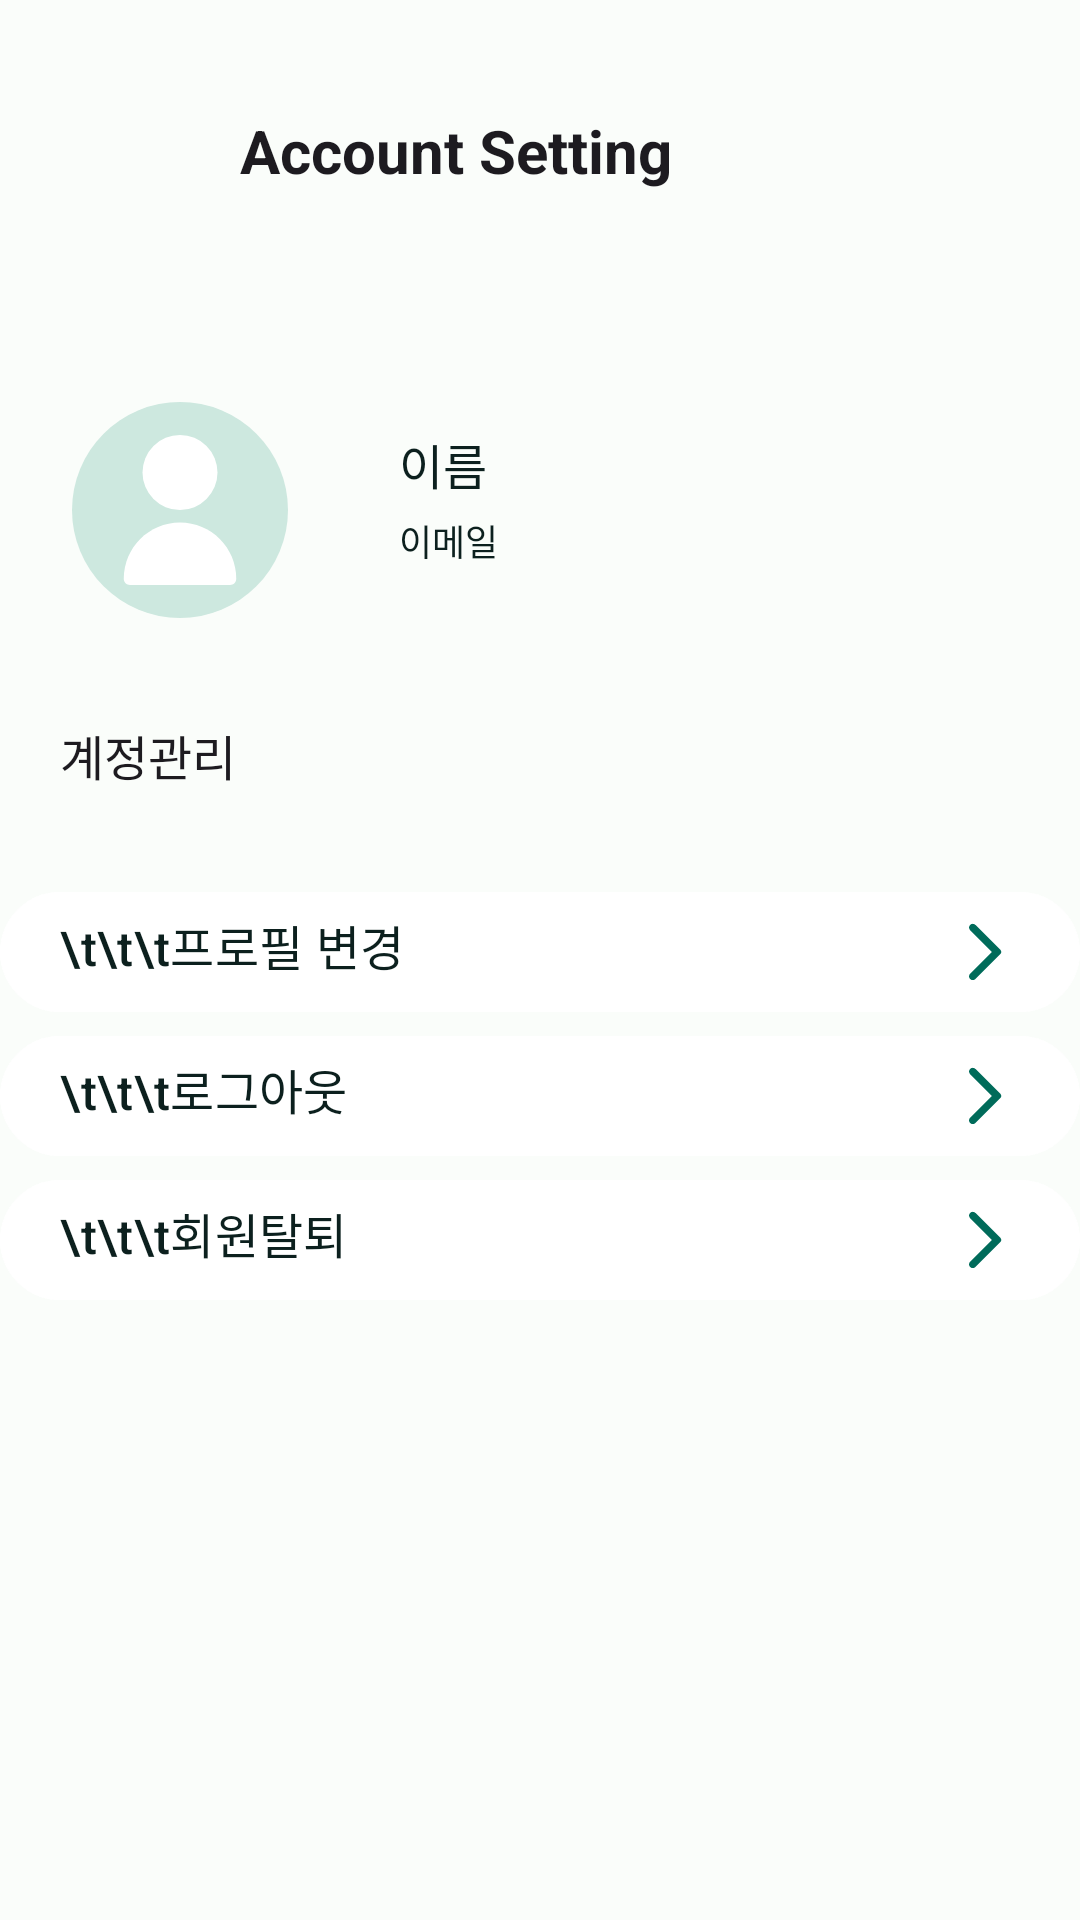

Named icons in this screenshot (1080px x 1920px) and their bounding boxes, detection(x1, y1, x2, y2):
user: detection(72, 402, 288, 618)
